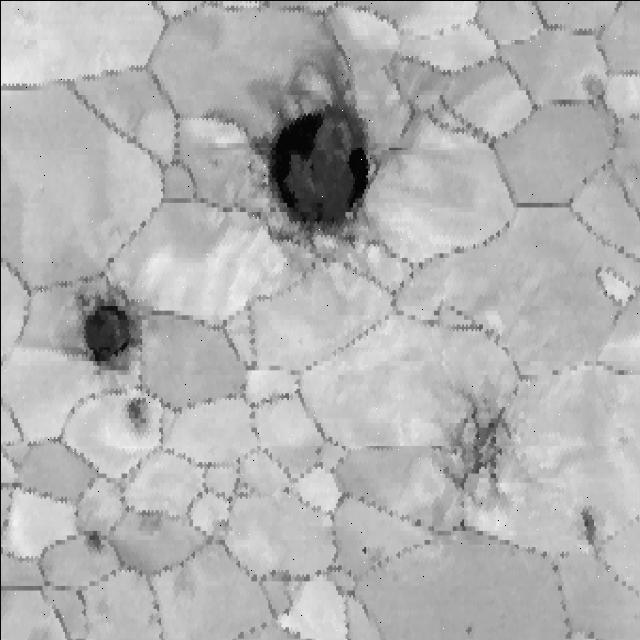good_void: (246, 49, 381, 245), (446, 385, 523, 502), (78, 285, 147, 366), (574, 68, 610, 104), (124, 391, 155, 428), (576, 507, 602, 548), (83, 525, 109, 558), (357, 536, 383, 562), (136, 509, 162, 534)
